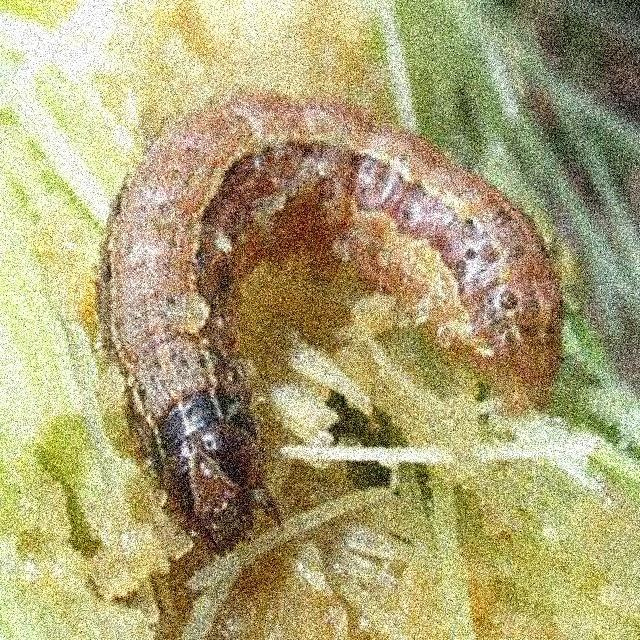Plaga: (89, 86, 566, 560)
